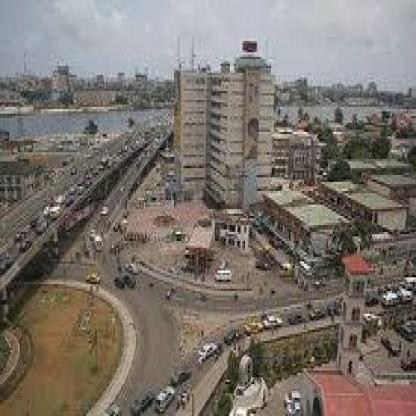car: (166, 351, 195, 391), (153, 379, 175, 416), (263, 306, 287, 332), (221, 322, 240, 350), (195, 341, 218, 364), (123, 266, 139, 296), (213, 263, 233, 284), (84, 271, 101, 291), (115, 273, 126, 297), (93, 234, 104, 251)
